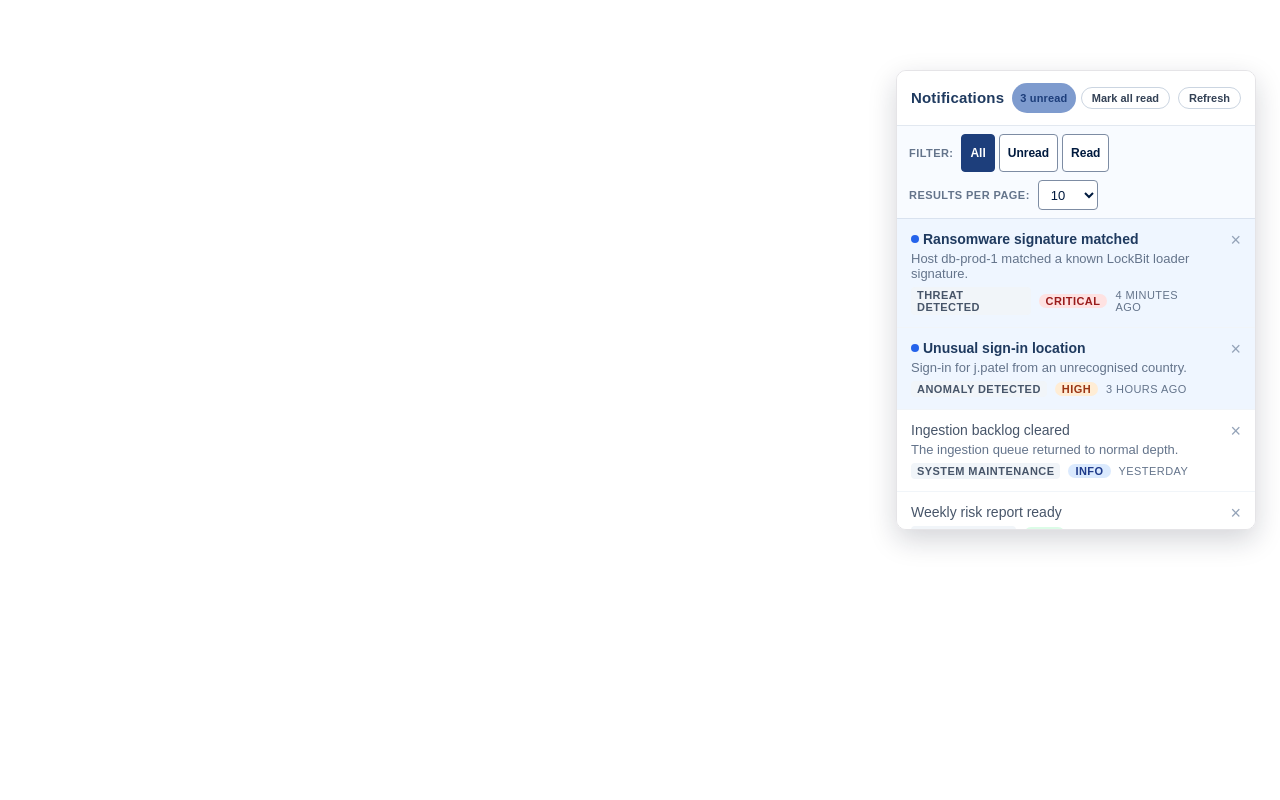
Test: NotificationPanel on the mock provider › renders a record whose metadata the producer truncated
The image size is (1280, 800).
Click the button with class "notif-item-main" that starts with "Ingestion backlog cleared": [1057, 451] box 897,410 -> 1216,491
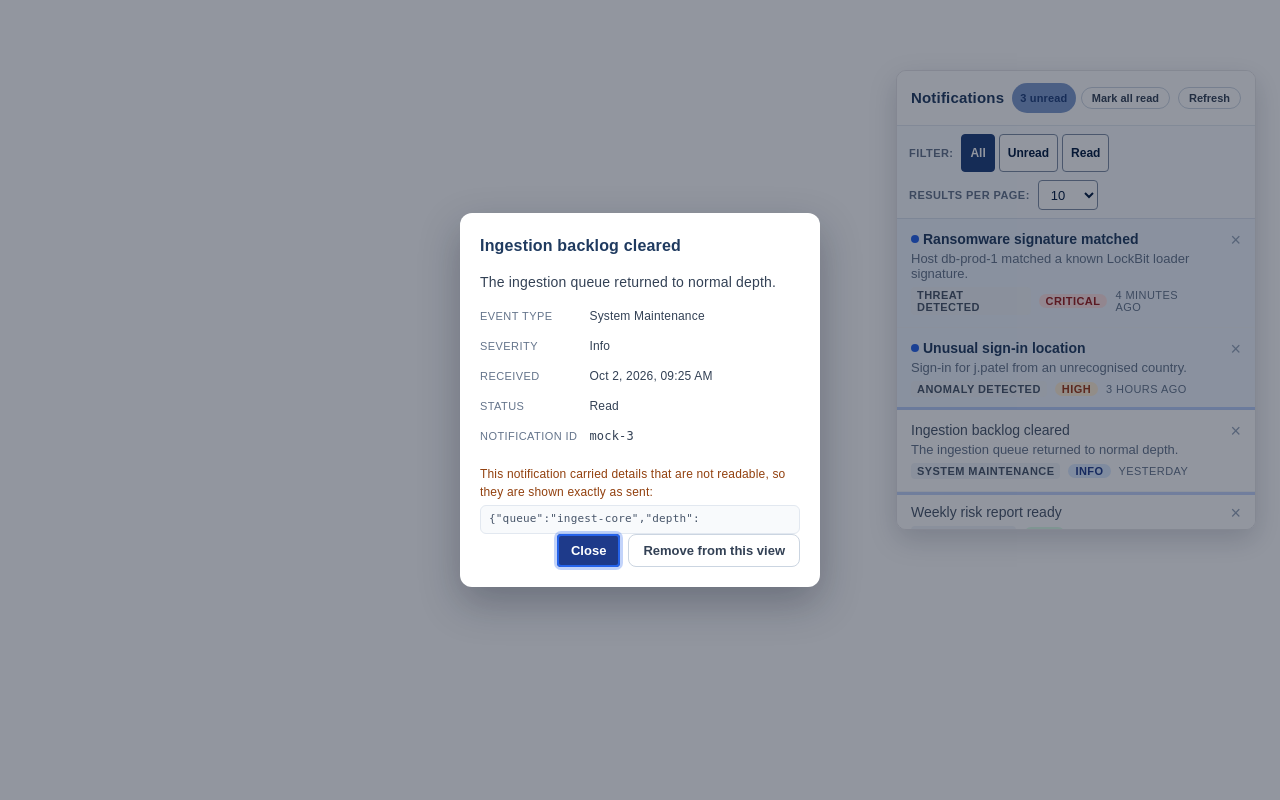
Expected: the text "details that are not readable" is shown, 480,467 -> 786,499
